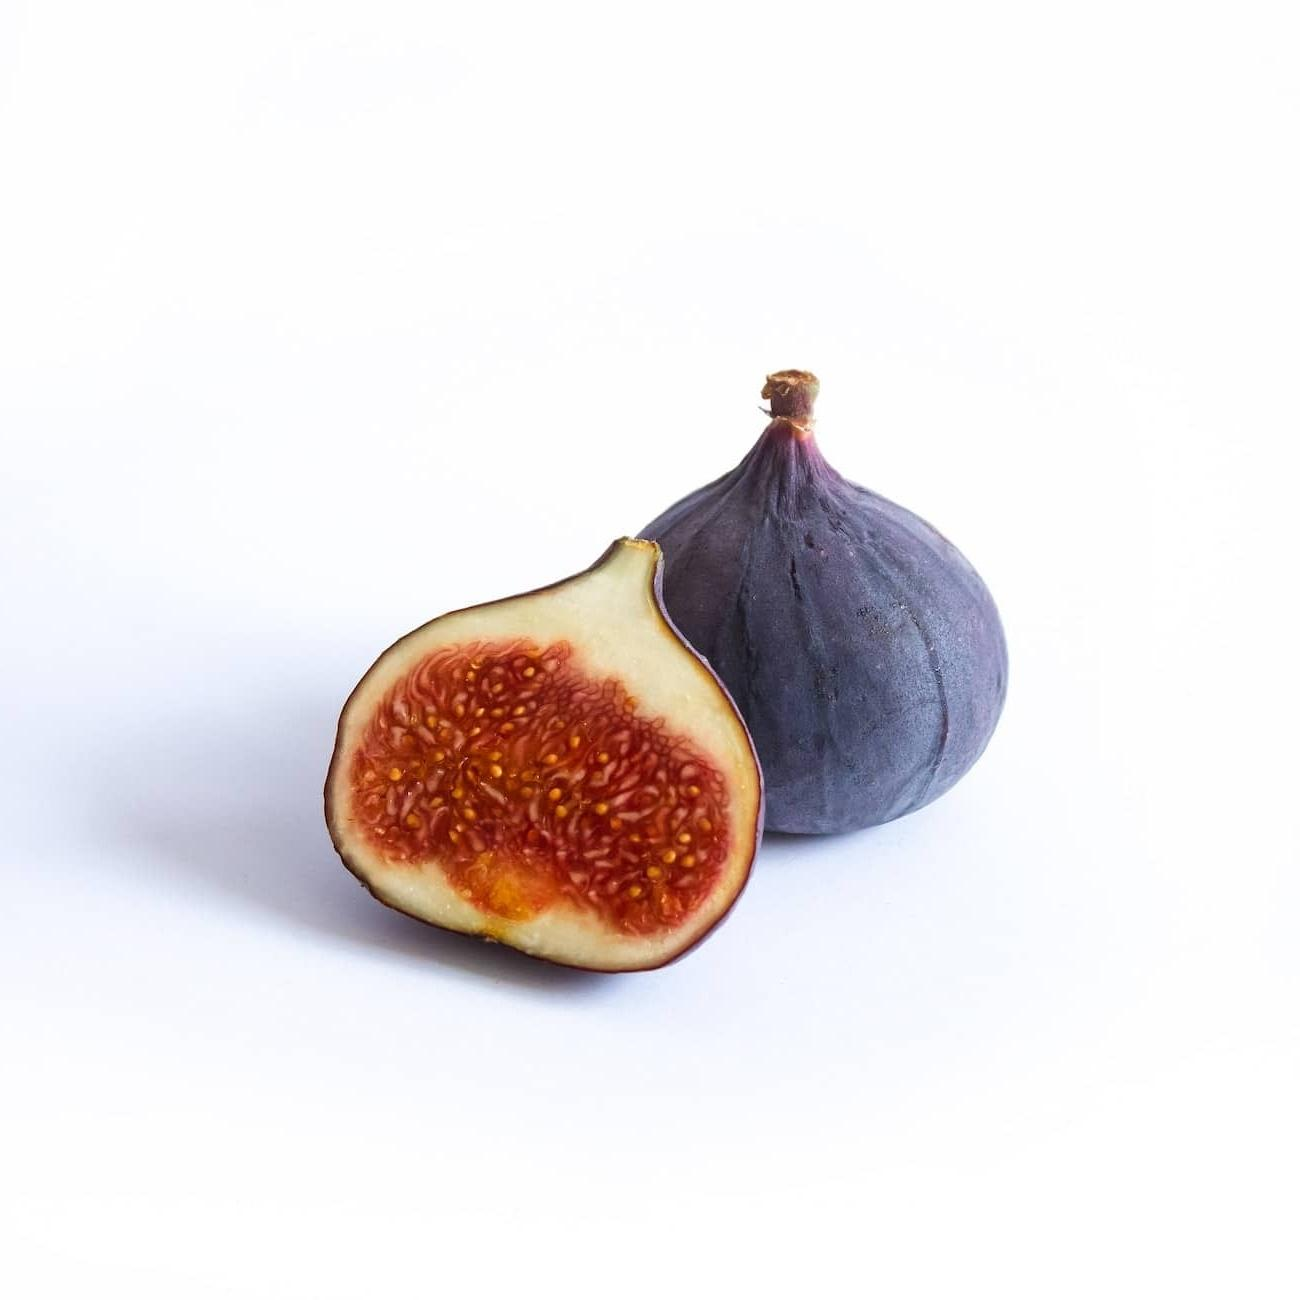fig: (321, 533, 765, 973), (630, 365, 1010, 838)
